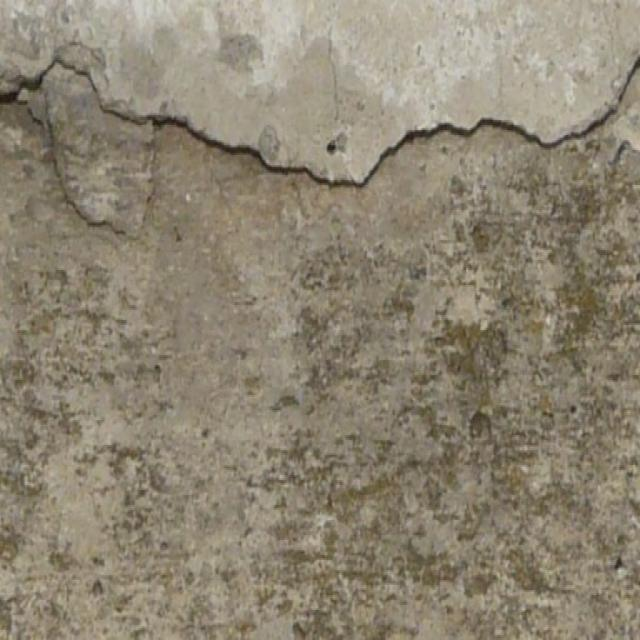crack: (3, 53, 639, 244)
